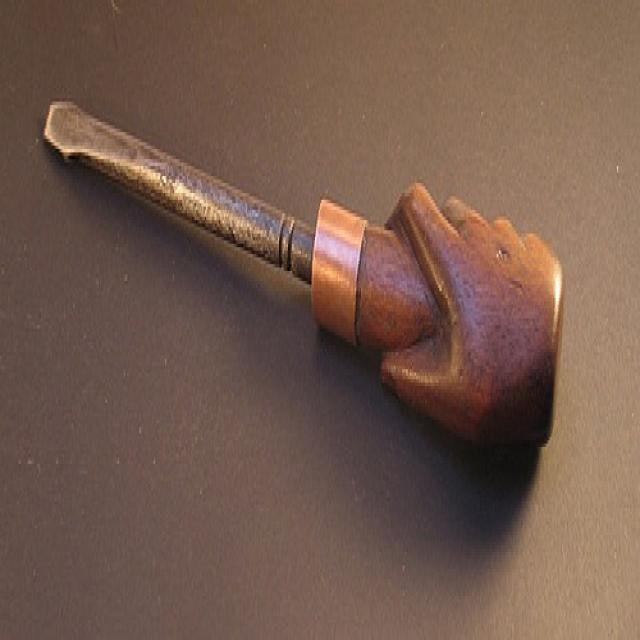screwdriver: (39, 49, 568, 494)
